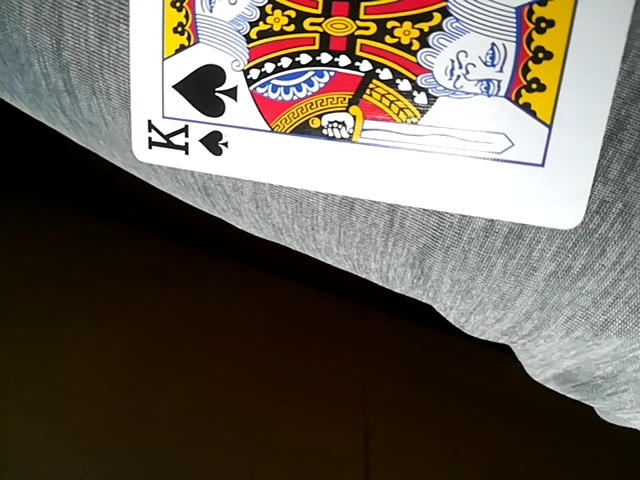ht k: (126, 2, 639, 230)
